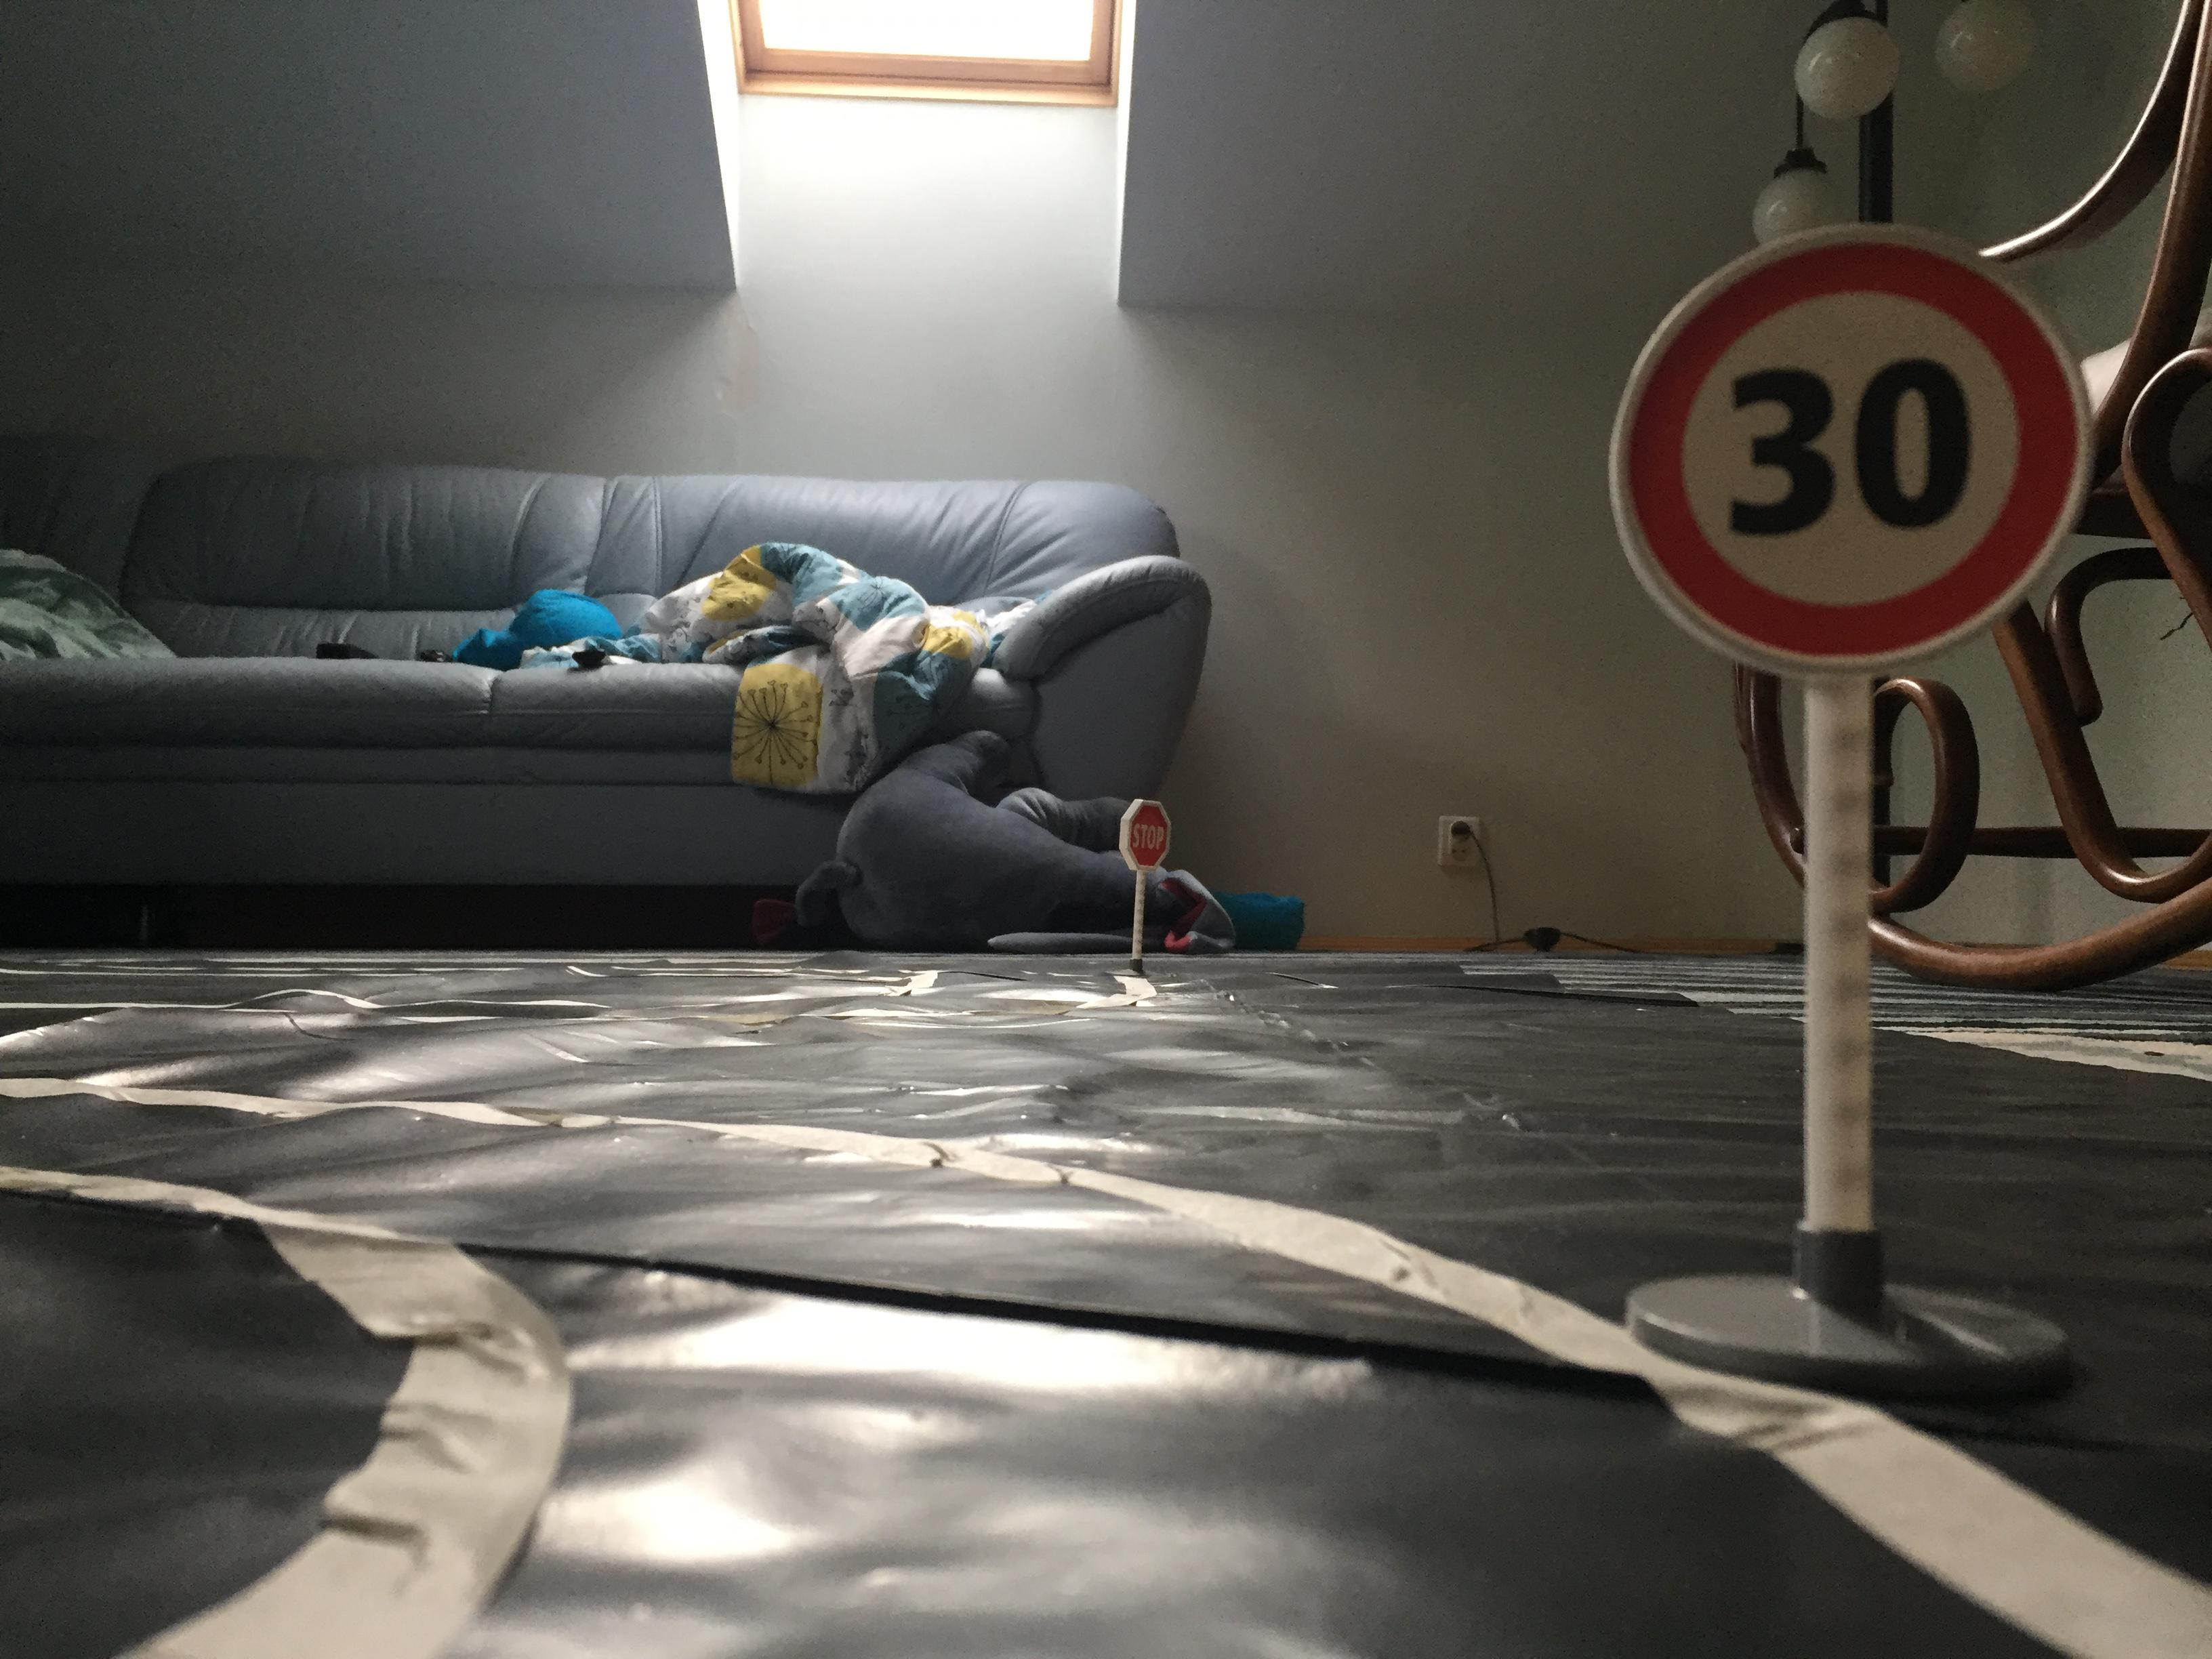speed: (1601, 209, 2106, 683)
